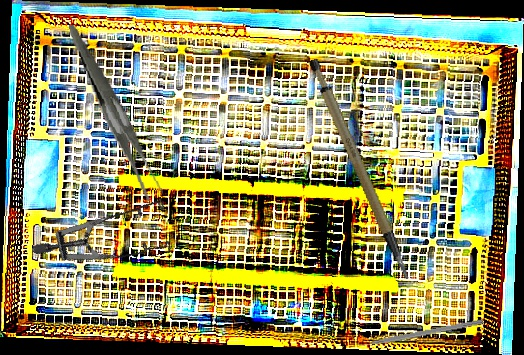Chopper: (350, 311, 485, 350)
Dressing Forceps: (68, 15, 165, 209)
Scalpel Handle: (305, 50, 411, 290)
Speculum: (31, 160, 187, 300)
